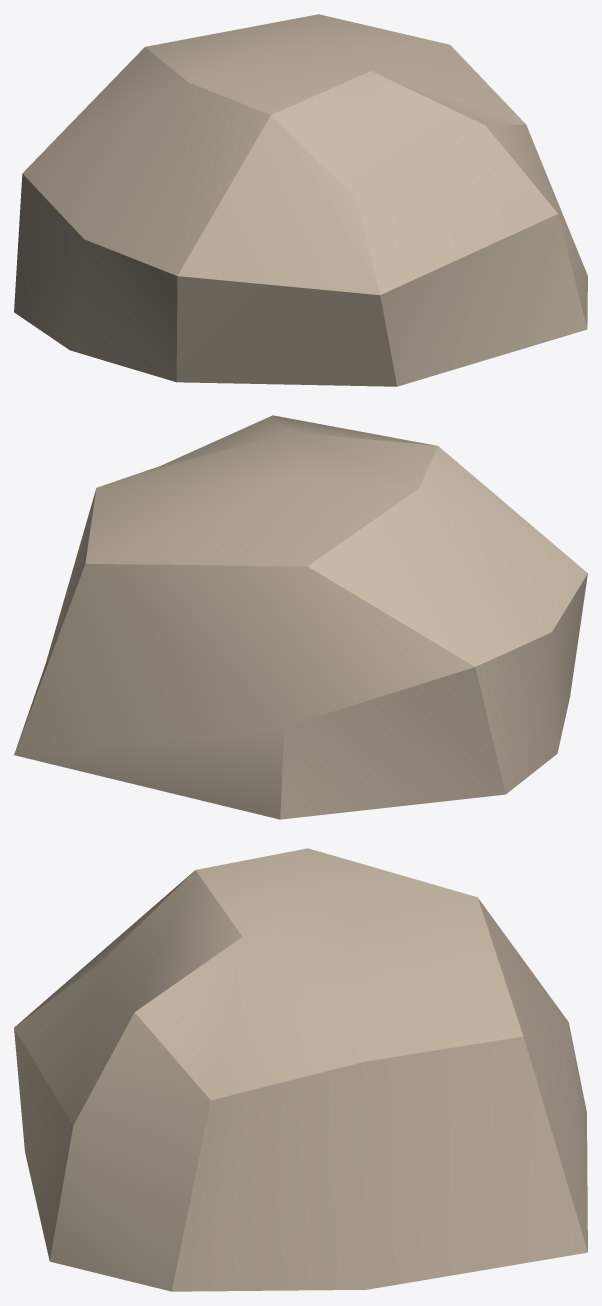
Rendered from Mid Rock 02.FBX.
The picture shows the model from 3 angles, top to bottom: view 1: azimuth 30°, elevation 25°; view 2: azimuth 150°, elevation 25°; view 3: azimuth 270°, elevation 25°; orthographic projection. The views are drawn at different scales.
Visible parts, largest first — view 1: Mid Rock 02; view 2: Mid Rock 02; view 3: Mid Rock 02.
Part boxes in pixels (bbox=[...]): Mid Rock 02: bbox=[14, 14, 587, 386]; Mid Rock 02: bbox=[14, 415, 587, 819]; Mid Rock 02: bbox=[14, 848, 587, 1291].
Bounding box in the file's own units: 141 × 67.11 × 134.
1 material, 1 textured.
